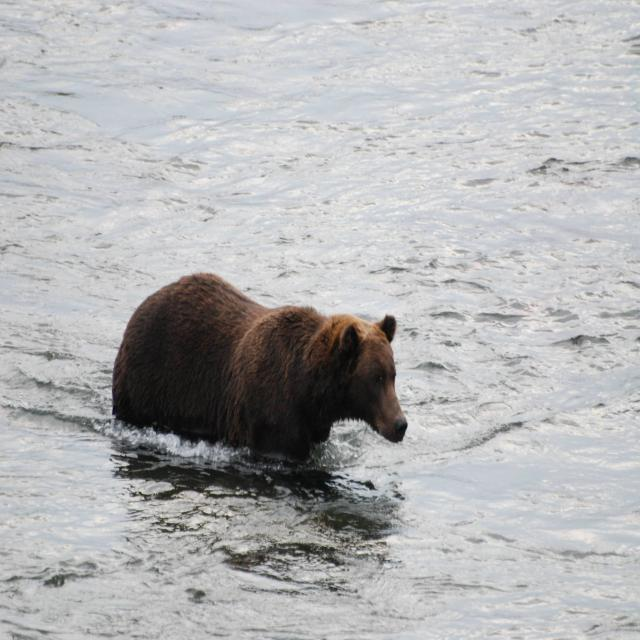bear face: (112, 271, 407, 443)
